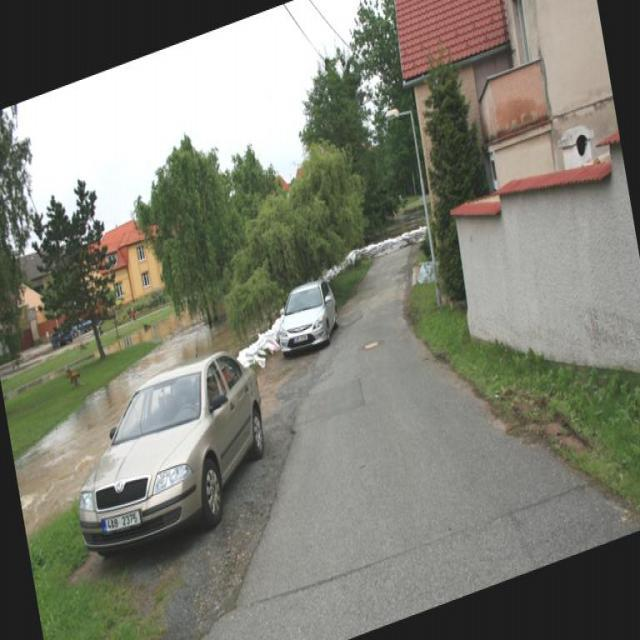flood: (0, 285, 259, 535)
